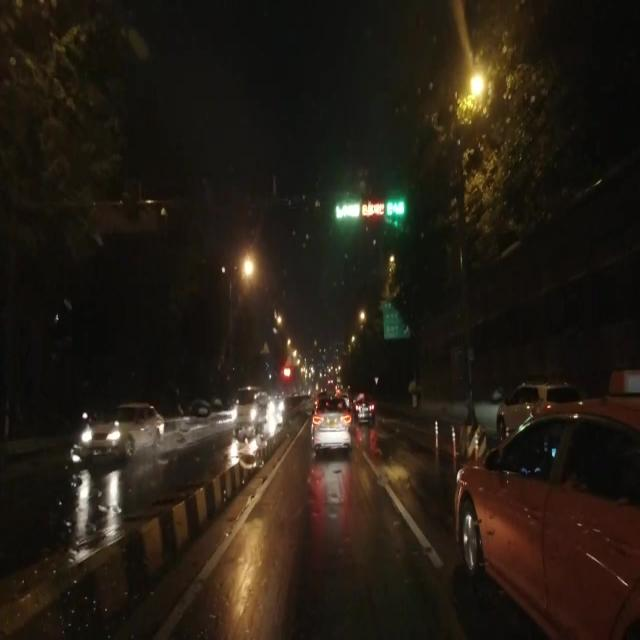Car: (460, 389, 637, 639), (78, 400, 163, 467), (311, 388, 350, 453)
